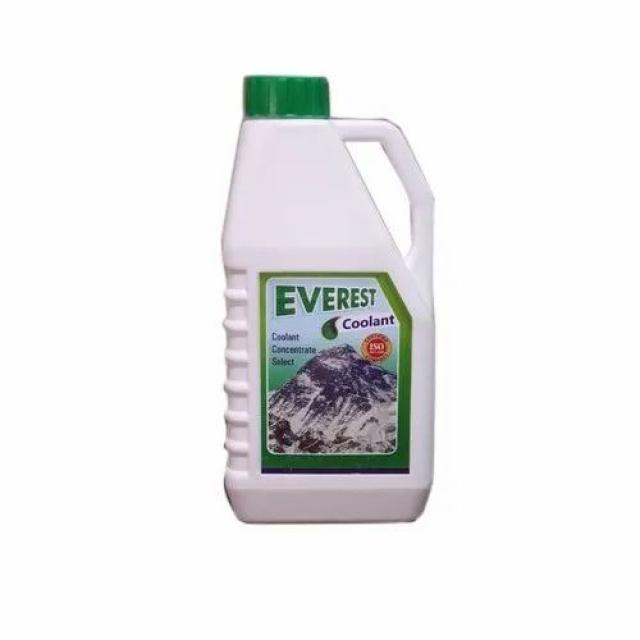coolant: (209, 67, 445, 529)
